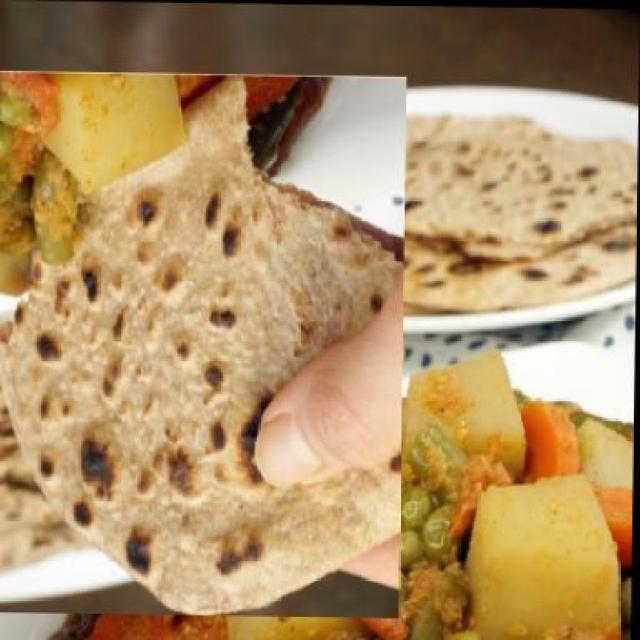chapati: (0, 71, 408, 618), (305, 113, 638, 316)
